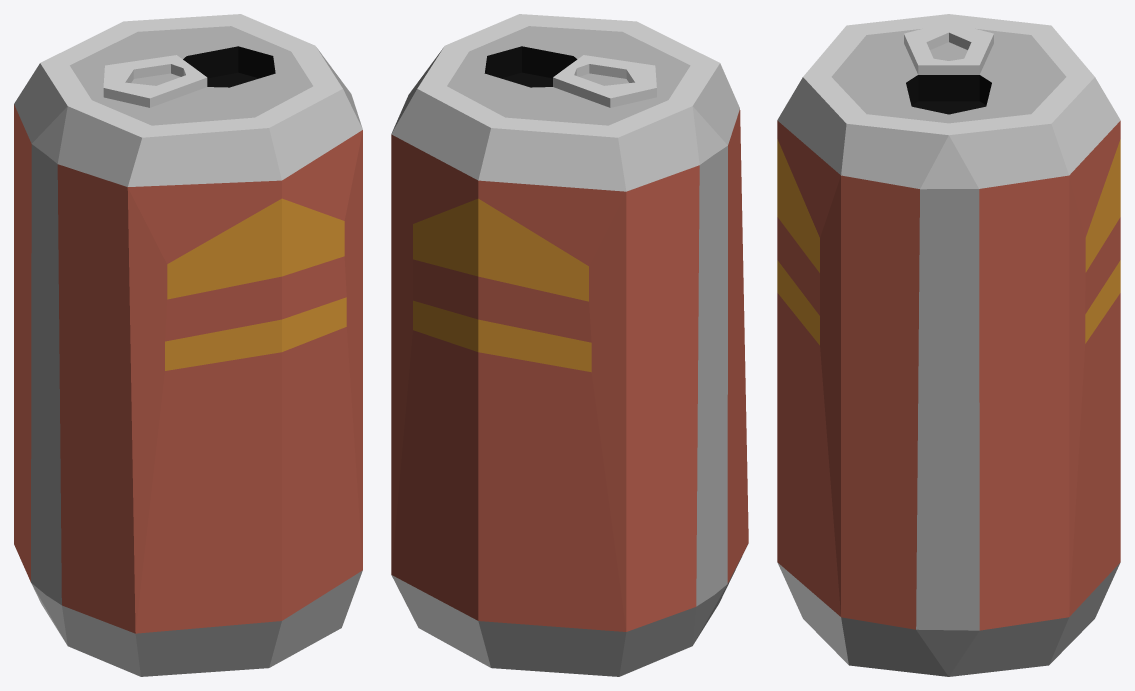
File: SM_Item_Can_01.fbx
3 views of the same model, side by side, from view 1: azimuth 30°, elevation 25°; view 2: azimuth 150°, elevation 25°; view 3: azimuth 270°, elevation 25° (orthographic).
Visible parts, largest first — view 1: SM_Item_Can_01; view 2: SM_Item_Can_01; view 3: SM_Item_Can_01.
Boxes of the visible parts, box(x1,y1,x2,y2) form: SM_Item_Can_01: box(14, 14, 362, 676); SM_Item_Can_01: box(391, 14, 748, 676); SM_Item_Can_01: box(777, 14, 1120, 676).
Size of the model in its own units: 10.65 by 19.15 by 10.81.
